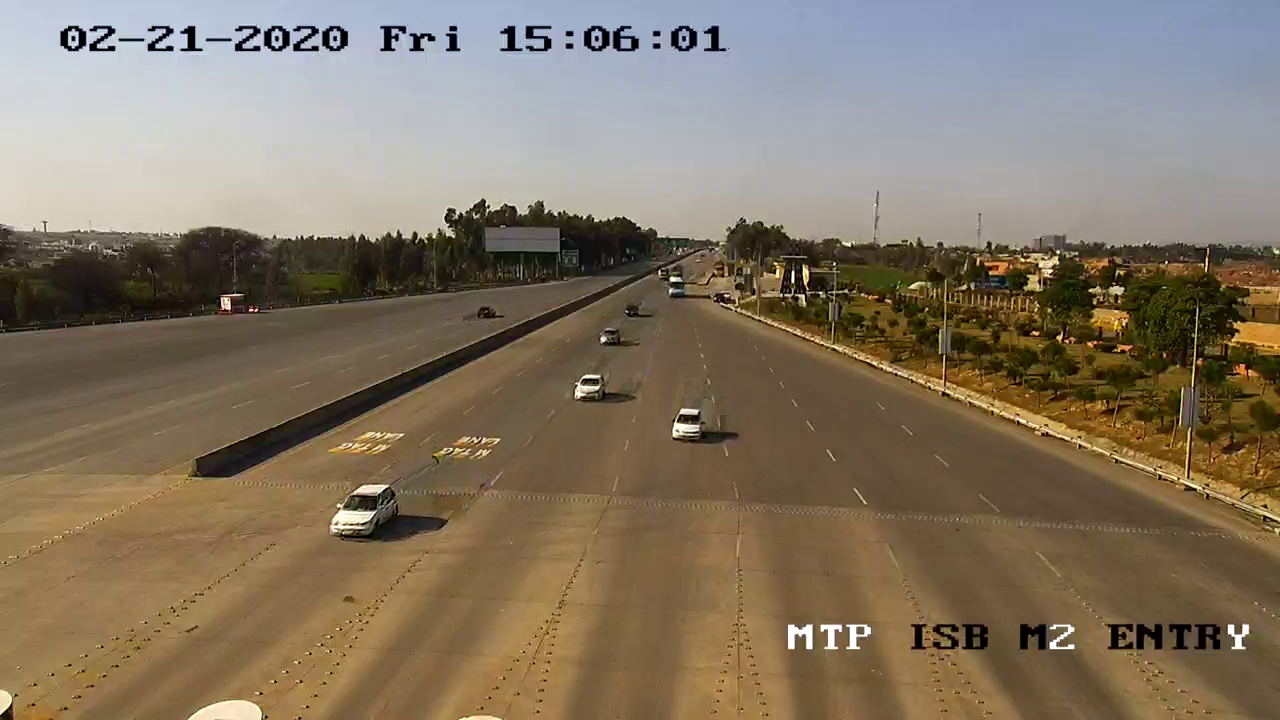f1: (317, 471, 403, 546), (565, 366, 614, 415), (663, 403, 714, 450)
